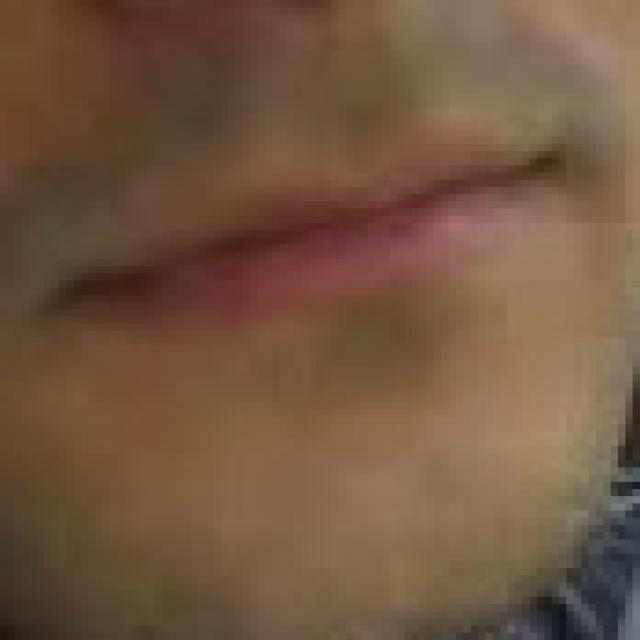closed-mouth: (36, 137, 566, 330)
